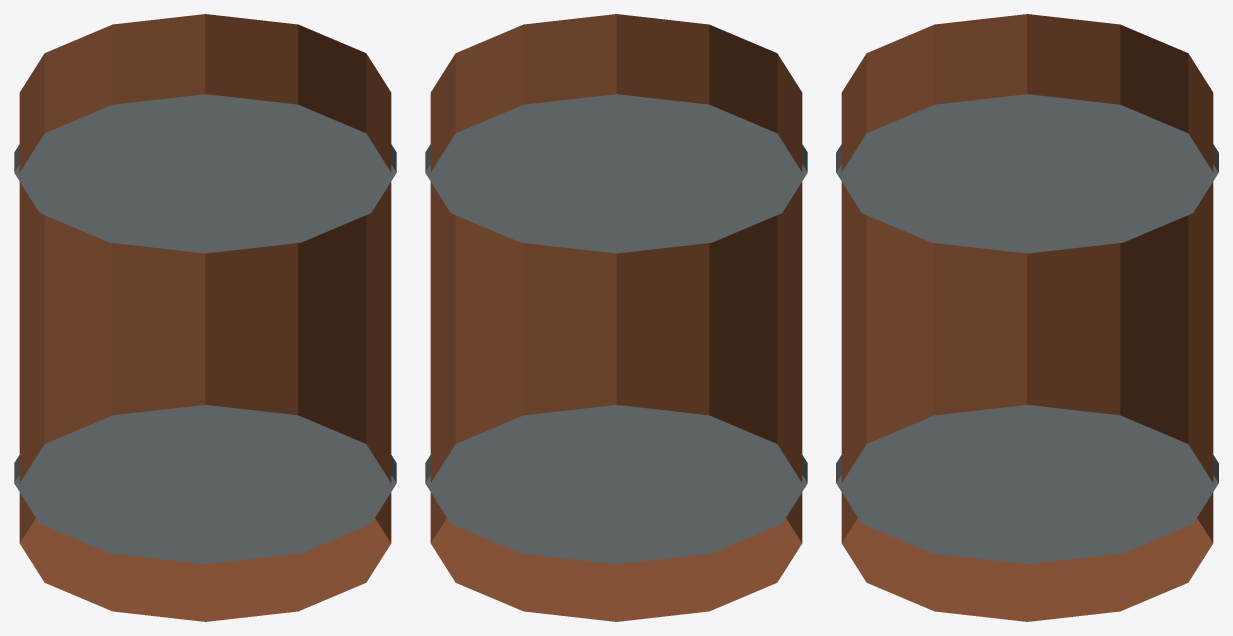
The model's file is tyres.glb.
The picture shows the model from 3 angles, left to right: view 1: azimuth 30°, elevation 25°; view 2: azimuth 150°, elevation 25°; view 3: azimuth 270°, elevation 25°; orthographic projection.
Size of the model in its own units: 0.6921 by 0.9 by 0.6921.
1 material, 1 textured.
